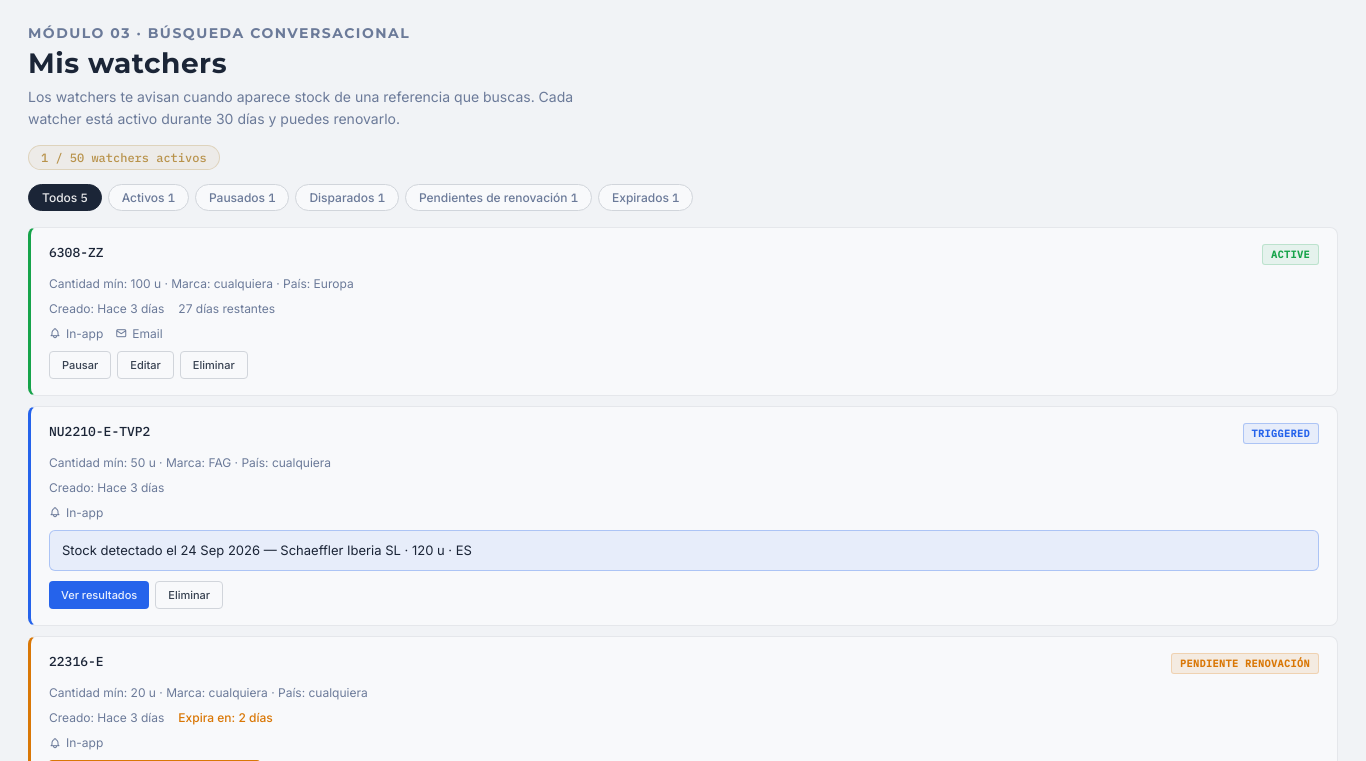
Test: Watchers · eliminar (spec §6) › si borrar falla, el diálogo SIGUE abierto con el error dentro
This screenshot has width=1366, height=761.
Check: the element named "Watcher 6308-ZZ" is shown, box [28,227,1338,396]
Step 1. Click the button with aria-label "Eliminar — 6308-ZZ" → {"x": 214, "y": 365}, box [180,351,248,379]
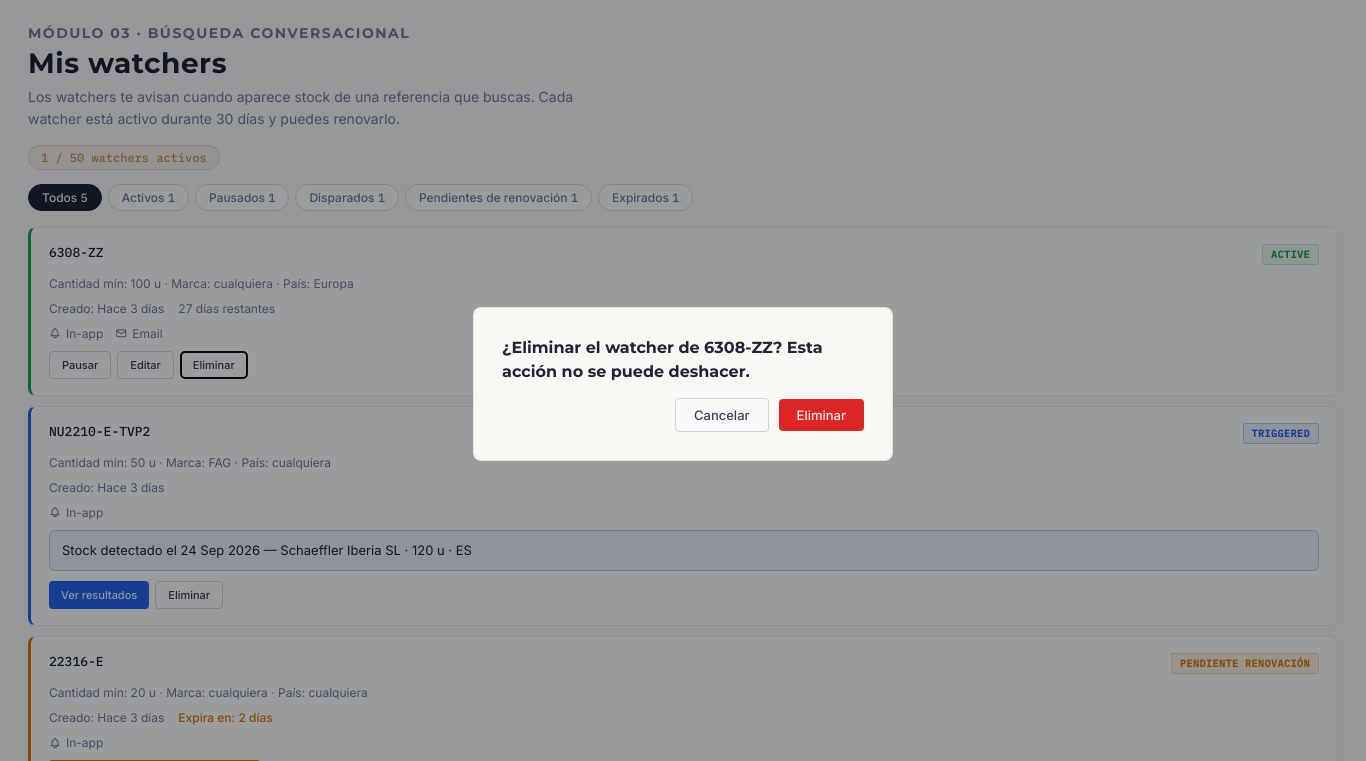
Step 2. Click the button "Eliminar" → {"x": 821, "y": 415}, box [778,399,864,431]
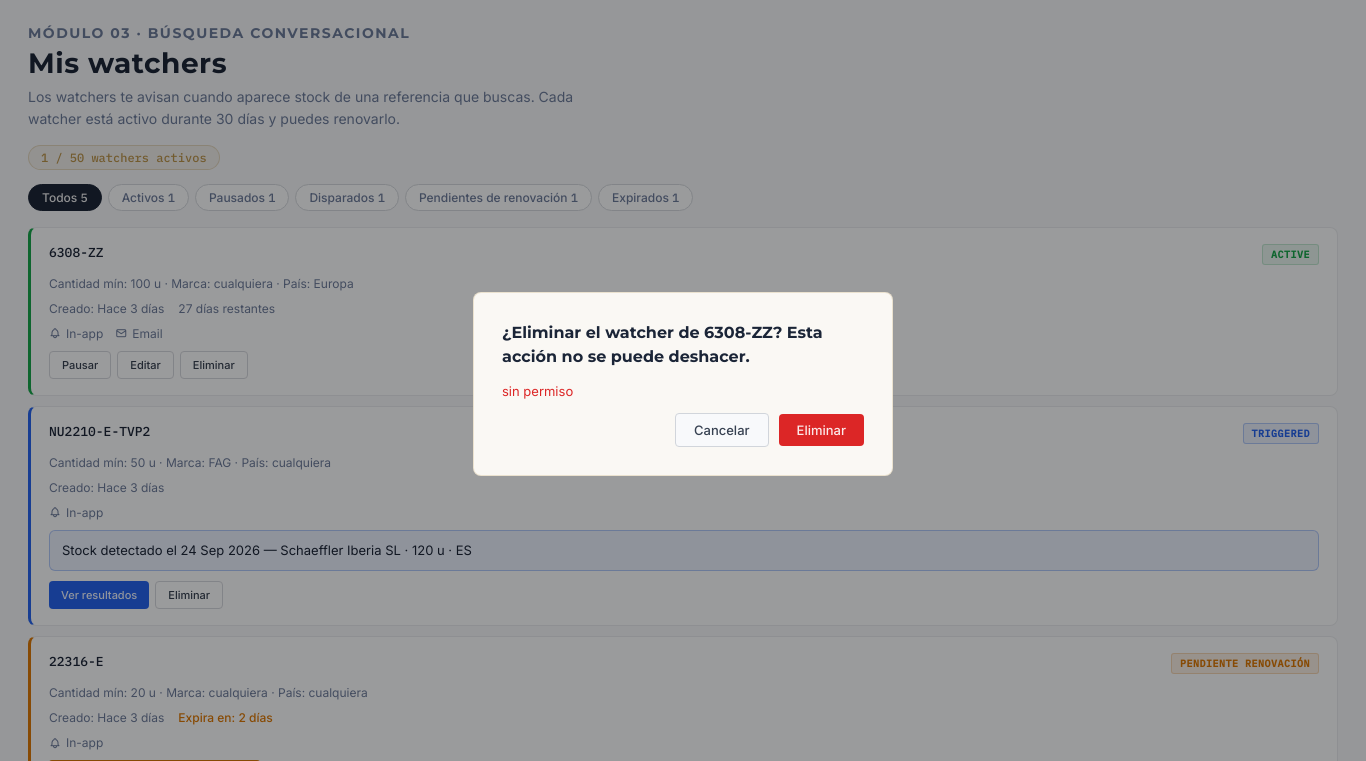
Check: the message reads "sin permiso", box [502,383,573,399]
